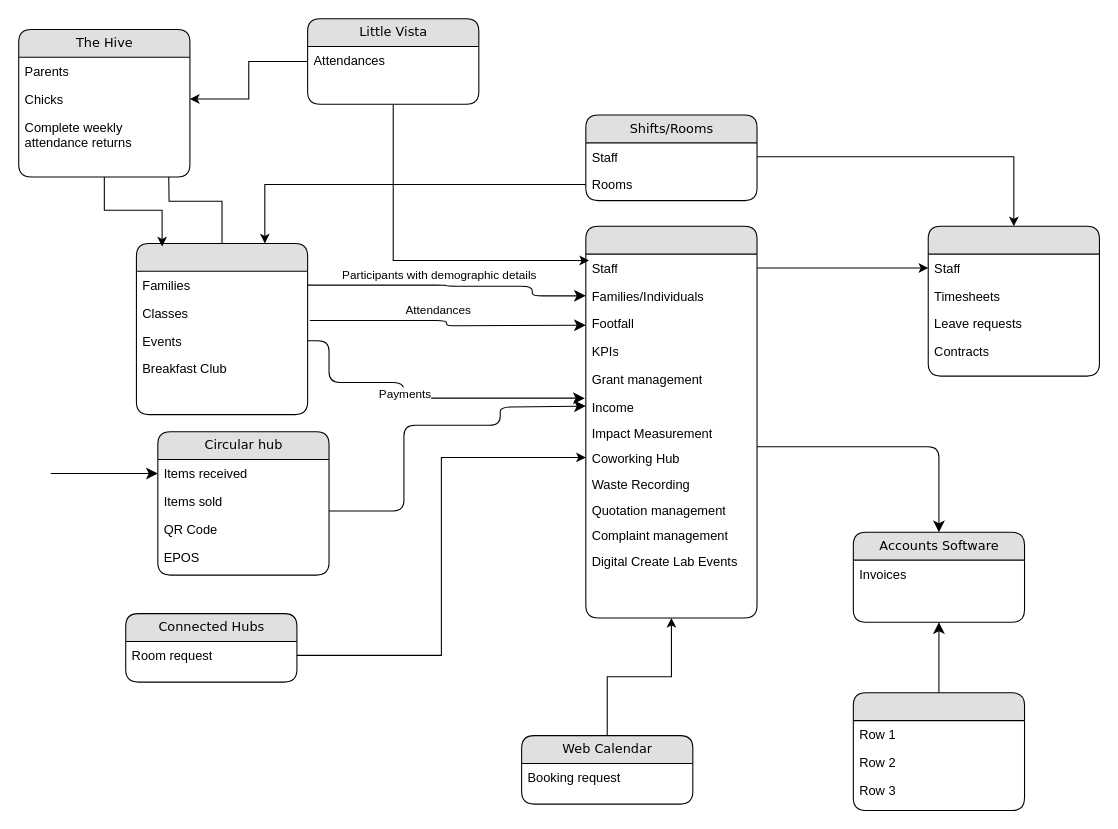
Some shapes in this 1118 by 829 pixel diagram are drawn without their labels. The shapes that lost their labels are listed below. From the top down, each one's box as (x1, y1, x2, y2) in pixels, then its label:
(927, 225, 1099, 376): HR
(135, 242, 308, 415): Class Software
(585, 225, 757, 618): CRM
(852, 692, 1025, 811): Payroll
